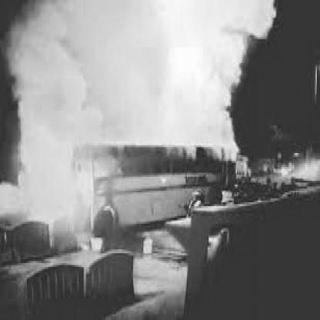Fire: (24, 136, 88, 214)
